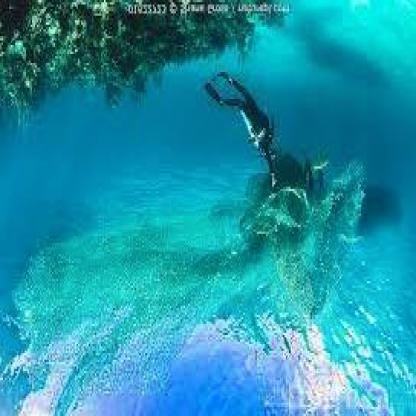net: (23, 204, 341, 360)
